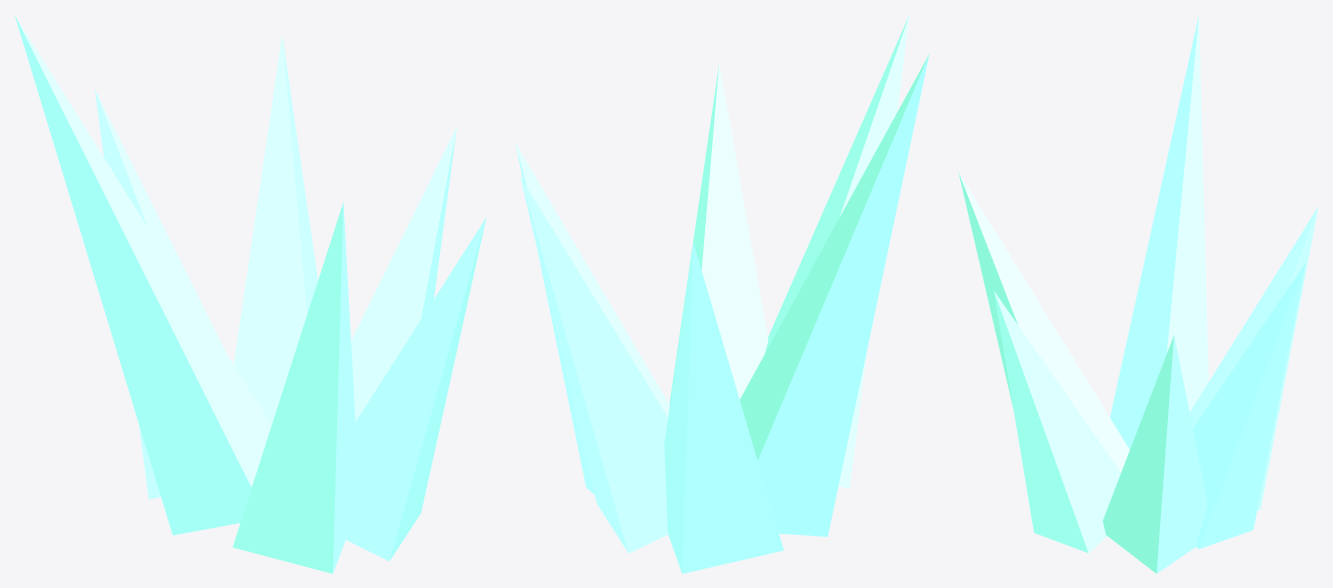
File: glass_shards.glb
The picture shows the model from 3 angles, left to right: view 1: azimuth 30°, elevation 25°; view 2: azimuth 150°, elevation 25°; view 3: azimuth 270°, elevation 25°; orthographic projection. The views are drawn at different scales.
Parts seen in each view (by area): view 1: part.glass_shards; view 2: part.glass_shards; view 3: part.glass_shards.
Boxes of the visible parts, x1,y1,x2,y2 form: part.glass_shards: (14,15,486,573); part.glass_shards: (515,14,929,573); part.glass_shards: (958,15,1318,573).
Size of the model in its own units: 0.3671 by 0.4441 by 0.3451.
